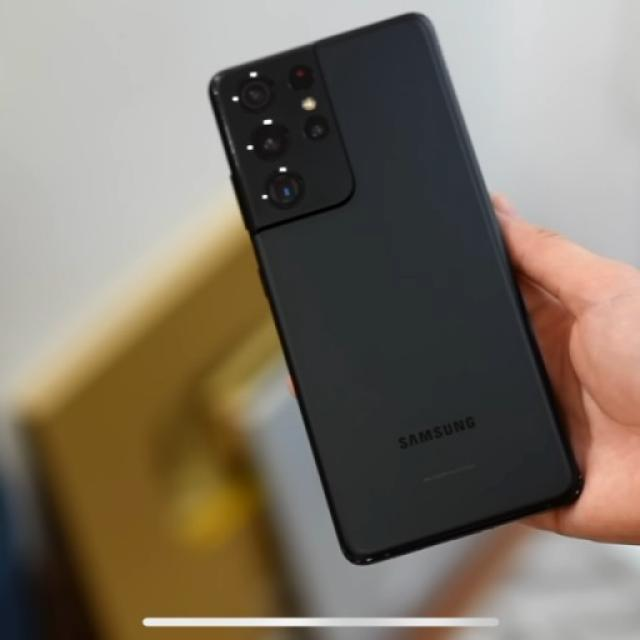Mobile: (211, 13, 585, 568)
